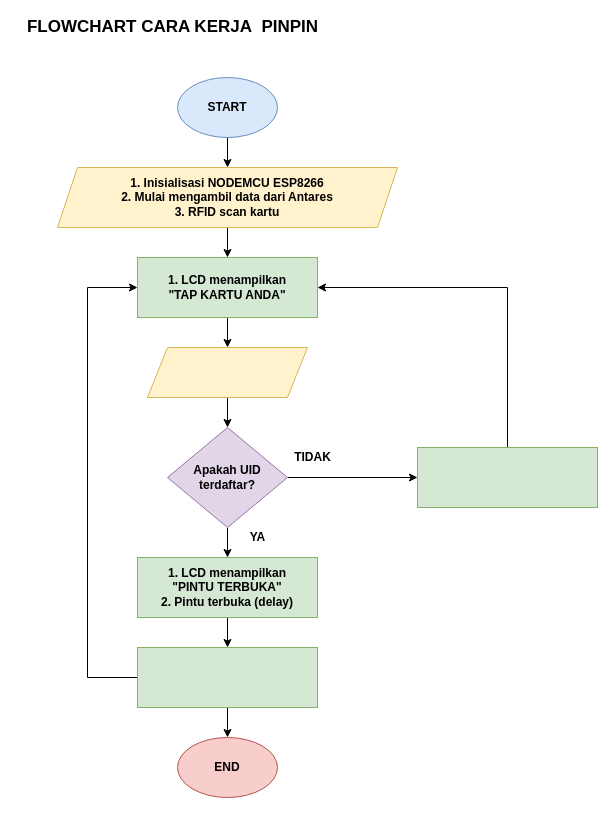
This 615x815 diagram has some shape labels left out. Here are the shapes that lost their labels. From the top down, the centre of each, then its label:
point 227,372: Scan RFID
point 507,477: 1. LCD menampilkan "PINTU TIDAK TERBUKA" 2. Pintu tidak terbuka
point 227,677: Pintu kembali tertutup
